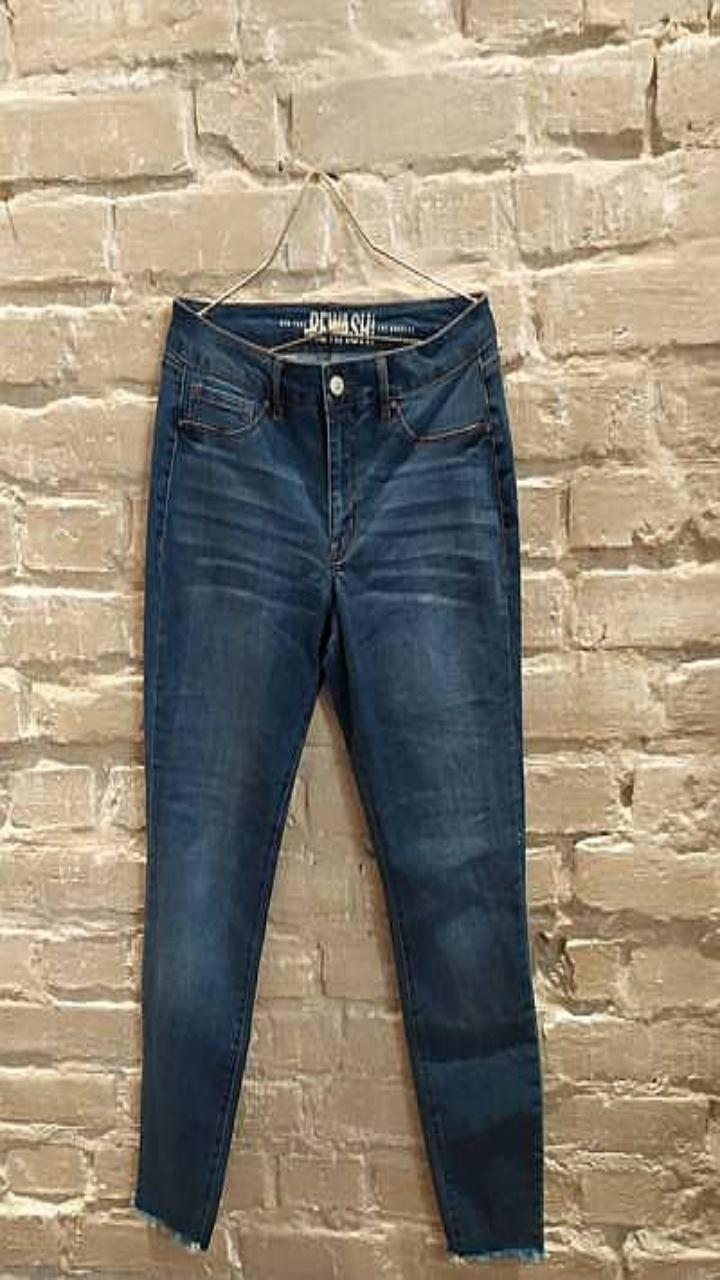Jeans: (132, 291, 544, 1259)
